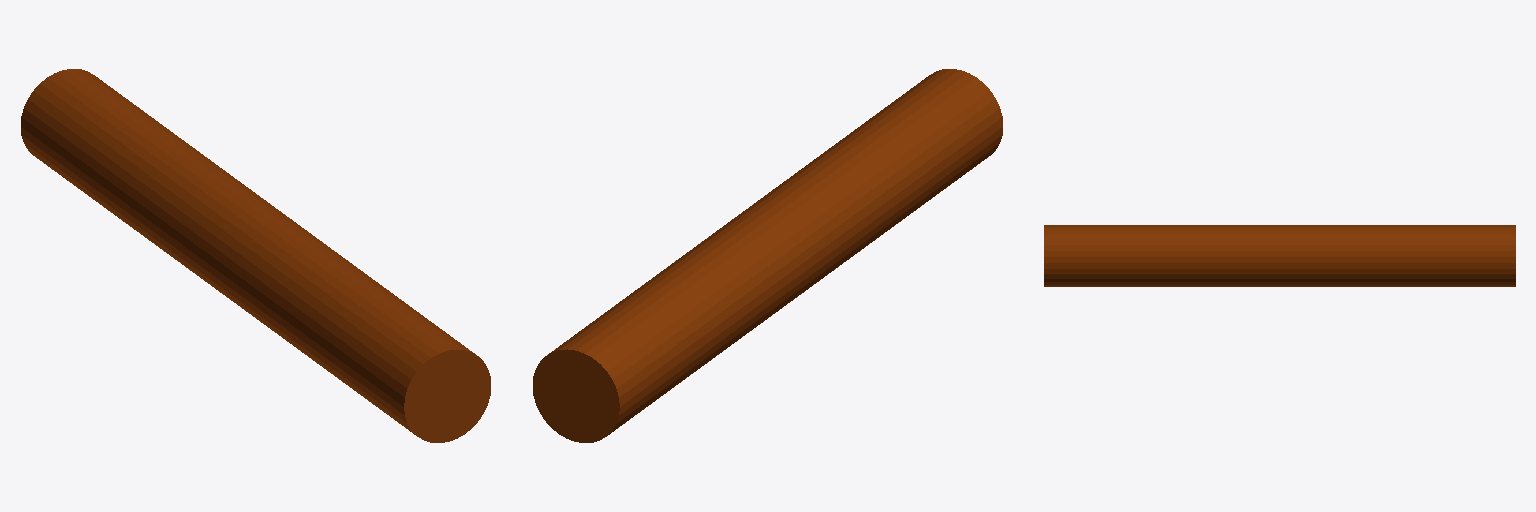
URDF robot description (cylinder):
<?xml version="1.0" ?>
<!-- =================================================================================== -->
<!-- |    This document was autogenerated by xacro from cylinder.xacro                 | -->
<!-- |    EDITING THIS FILE BY HAND IS NOT RECOMMENDED                                 | -->
<!-- =================================================================================== -->
<robot name="cylinder">
  <link name="world"/>
  <link name="base">
    <visual>
      <origin rpy="1.57079633 0 0" xyz="0 0 0"/>
      <geometry>
        <cylinder length="7.07106781185" radius="0.465"/>
      </geometry>
      <material name="cylinder_material">
        <color rgba="0.545 0.271 0.075 1.0"/>
        <texture filename="../textures/tree_bark.jpg"/>
      </material>
    </visual>
    <collision>
      <origin rpy="1.57079633 0 0" xyz="0 0 0"/>
      <geometry>
        <cylinder length="7.07106781185" radius="0.465"/>
      </geometry>
    </collision>
    <inertial>
      <origin rpy="0 0 0" xyz="0 0 0"/>
      <mass value="1"/>
      <inertia ixx="4.220722916648429" ixy="0.0" ixz="0.0" iyy="4.220722916648429" iyz="0.0" izz="24.999999999890573"/>
    </inertial>
  </link>
  <joint name="base_joint" type="fixed">
    <parent link="world"/>
    <child link="base"/>
    <origin rpy="0 0 0" xyz="0.0 0.0 0.0"/>
  </joint>
</robot>

--- Facts derived from the render (not from the file) ---
Views: 3 orthographic renders of the robot side by side, from view 1: azimuth 30°, elevation 25°; view 2: azimuth 150°, elevation 25°; view 3: azimuth 270°, elevation 25°.
Robot: cylinder — 2 links, 1 joints (1 fixed); root link world; default pose: every joint at zero.
Visible links, largest first — view 1: base; view 2: base; view 3: base.
Link boxes in pixels (x1=…): base: x1=21, y1=69, x2=490, y2=442; base: x1=533, y1=69, x2=1002, y2=442; base: x1=1044, y1=225, x2=1515, y2=286.
Bounding box of the posed robot: 0.93 × 7.07 × 0.93 m (x, y, z).
Geometry: primitives only (box / cylinder / sphere), no mesh files.
